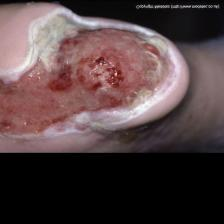Wound: (1, 7, 185, 144)
